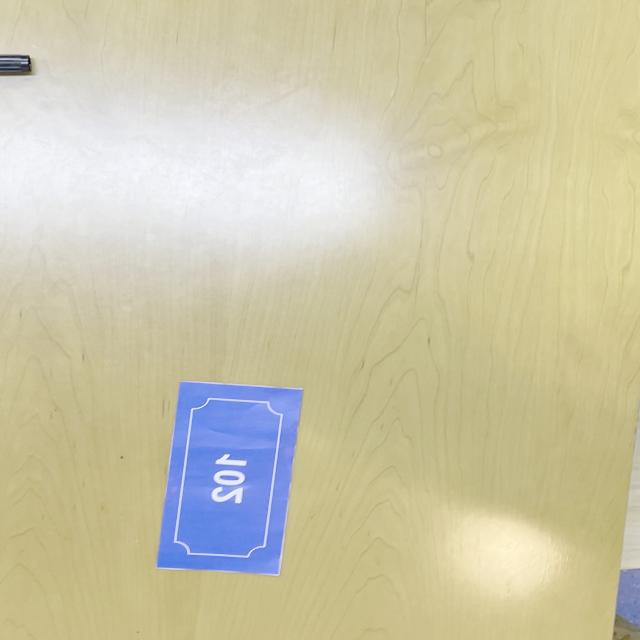Card: (121, 343, 319, 594)
